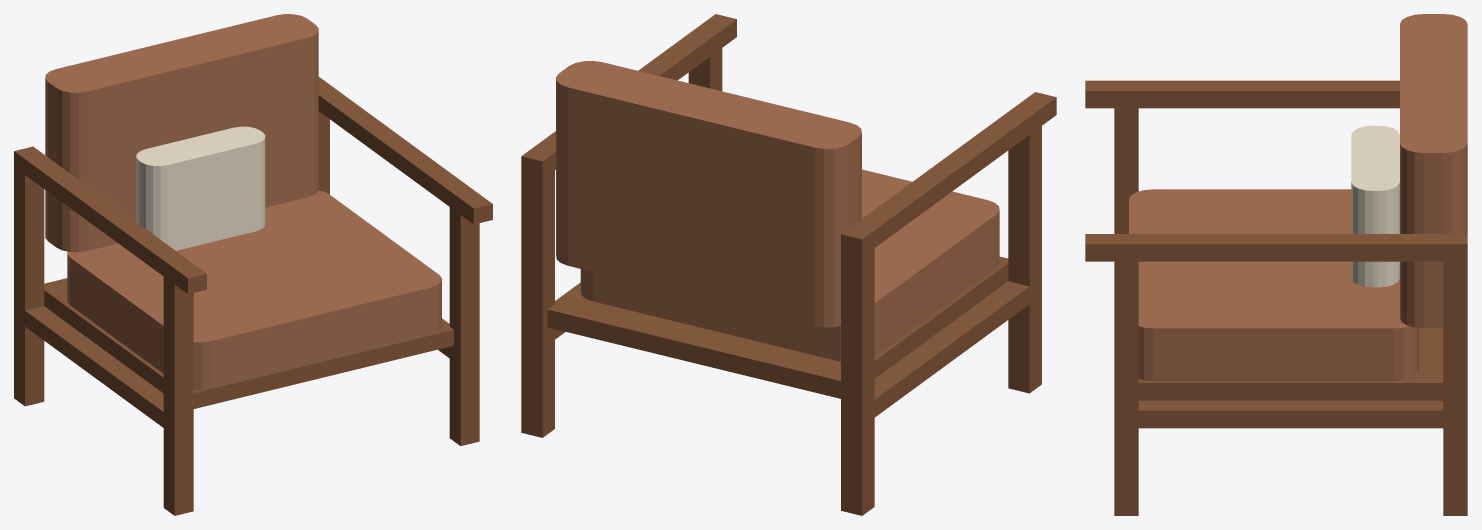
File: lounge_chair.glb
3 renders of one model, left to right at view 1: azimuth 30°, elevation 25°; view 2: azimuth 150°, elevation 25°; view 3: azimuth 270°, elevation 25°, orthographic. The views are drawn at different scales.
Visible parts, largest first — view 1: lounge_chair_Body; view 2: lounge_chair_Body; view 3: lounge_chair_Body.
Boxes of the visible parts, x1=… form: lounge_chair_Body: x1=14, y1=14, x2=492, y2=515; lounge_chair_Body: x1=521, y1=14, x2=1056, y2=515; lounge_chair_Body: x1=1085, y1=14, x2=1467, y2=515.
Bounding box in the file's own units: 0.8 × 0.8 × 0.79.
